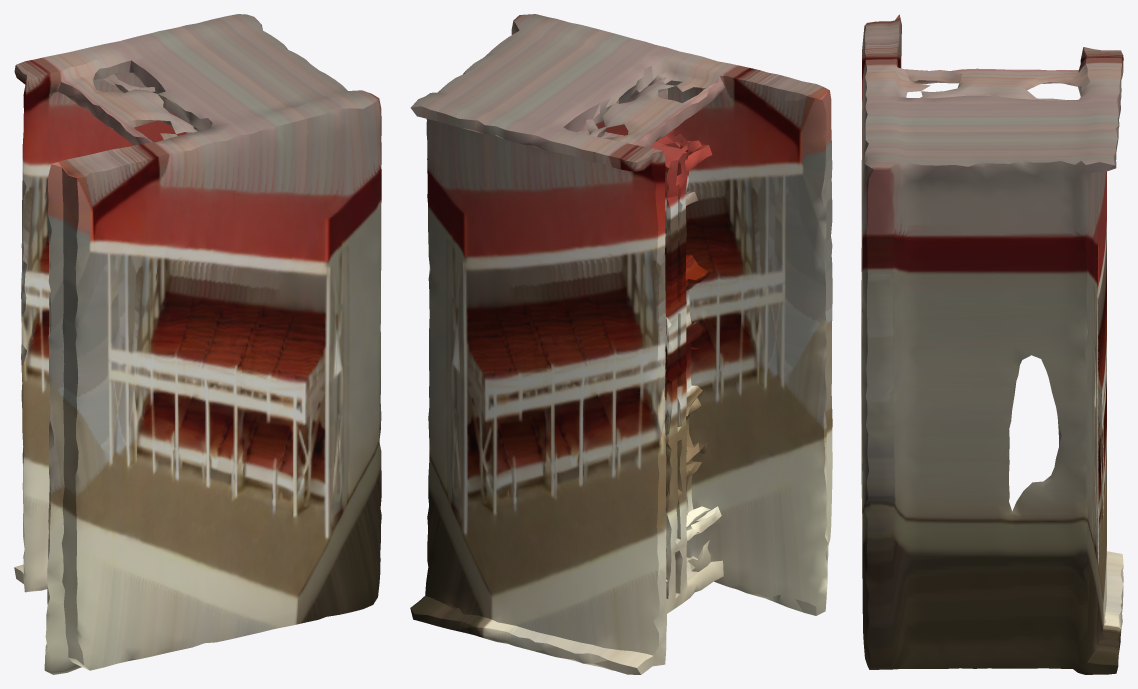
File: stampede-grandstand.glb
The picture shows the model from 3 angles, left to right: view 1: azimuth 30°, elevation 25°; view 2: azimuth 150°, elevation 25°; view 3: azimuth 270°, elevation 25°; orthographic projection.
Visible parts, largest first — view 1: stampede-grandstand; view 2: stampede-grandstand; view 3: stampede-grandstand.
Boxes of the visible parts, x1=… form: stampede-grandstand: x1=14, y1=14, x2=381, y2=674; stampede-grandstand: x1=410, y1=14, x2=832, y2=674; stampede-grandstand: x1=861, y1=14, x2=1123, y2=674.
Bounding box in the file's own units: 9.76 × 15 × 6.91.
1 material, 1 textured.
